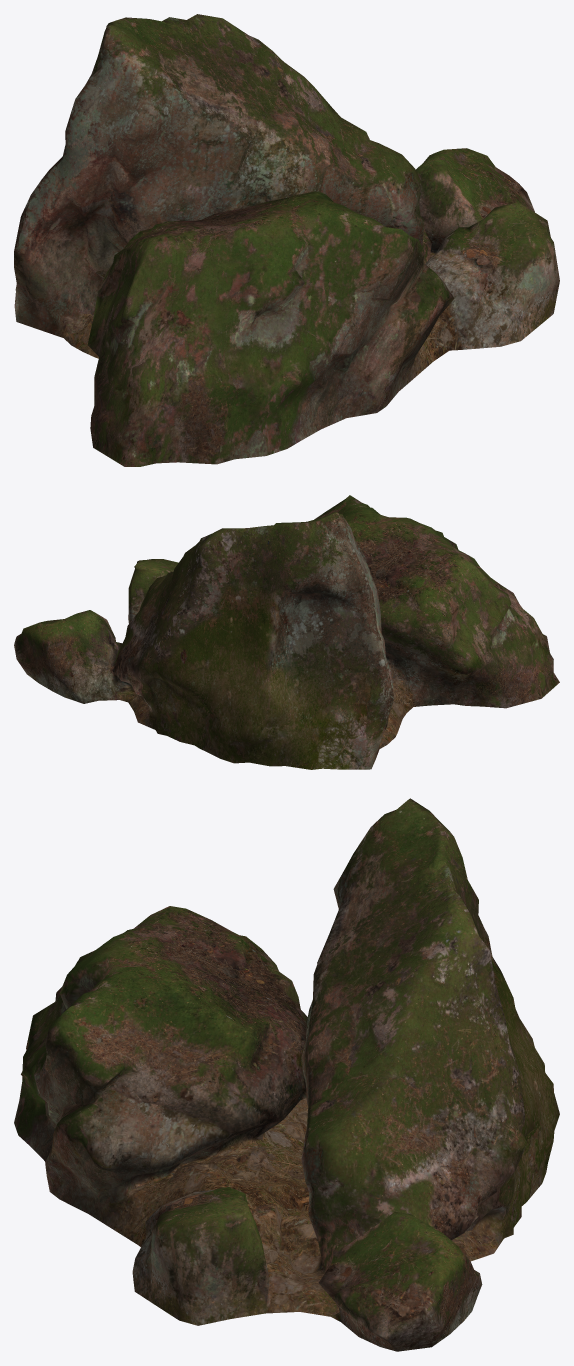
The model's file is nordic_forest_cluster_medium_xisgcic_mid.glb.
3 views of the same model, one above another, from view 1: azimuth 30°, elevation 25°; view 2: azimuth 150°, elevation 25°; view 3: azimuth 270°, elevation 25° (orthographic). The views are drawn at different scales.
Visible parts, largest first — view 1: xisgcic_LOD0_TIER2_000; view 2: xisgcic_LOD0_TIER2_000; view 3: xisgcic_LOD0_TIER2_000.
Boxes of the visible parts, x1,y1,x2,y2 form: xisgcic_LOD0_TIER2_000: [14, 14, 559, 466]; xisgcic_LOD0_TIER2_000: [14, 495, 559, 769]; xisgcic_LOD0_TIER2_000: [14, 798, 559, 1351].
Size of the model in its own units: 2.15 by 1.1 by 1.63.
1 material, 1 textured.
